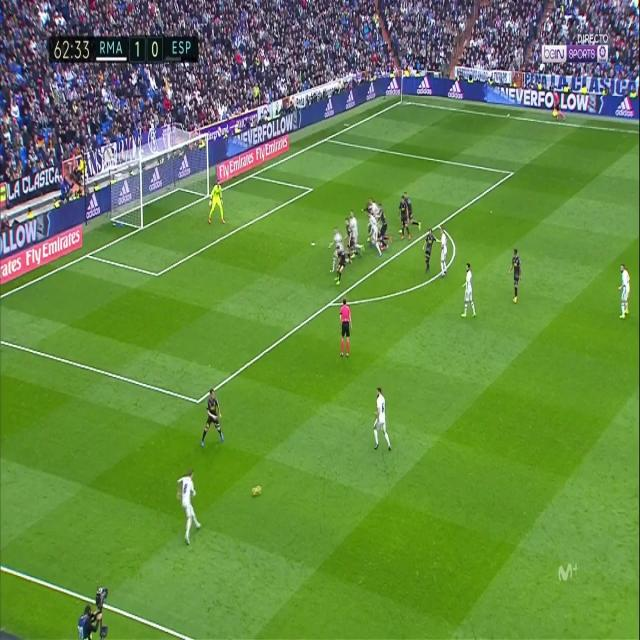Ball: (251, 480, 263, 499)
Goalkeeper: (205, 179, 227, 231)
Player: (175, 468, 202, 548), (197, 384, 226, 448), (371, 385, 393, 459), (460, 260, 480, 320), (509, 245, 526, 309), (615, 262, 632, 326), (364, 208, 384, 258), (422, 227, 441, 276), (348, 208, 364, 262), (329, 225, 343, 279), (438, 227, 452, 281), (378, 200, 392, 248), (400, 195, 412, 245), (336, 245, 346, 290), (344, 214, 354, 254)
Referee: (338, 298, 354, 361), (551, 90, 567, 125)
